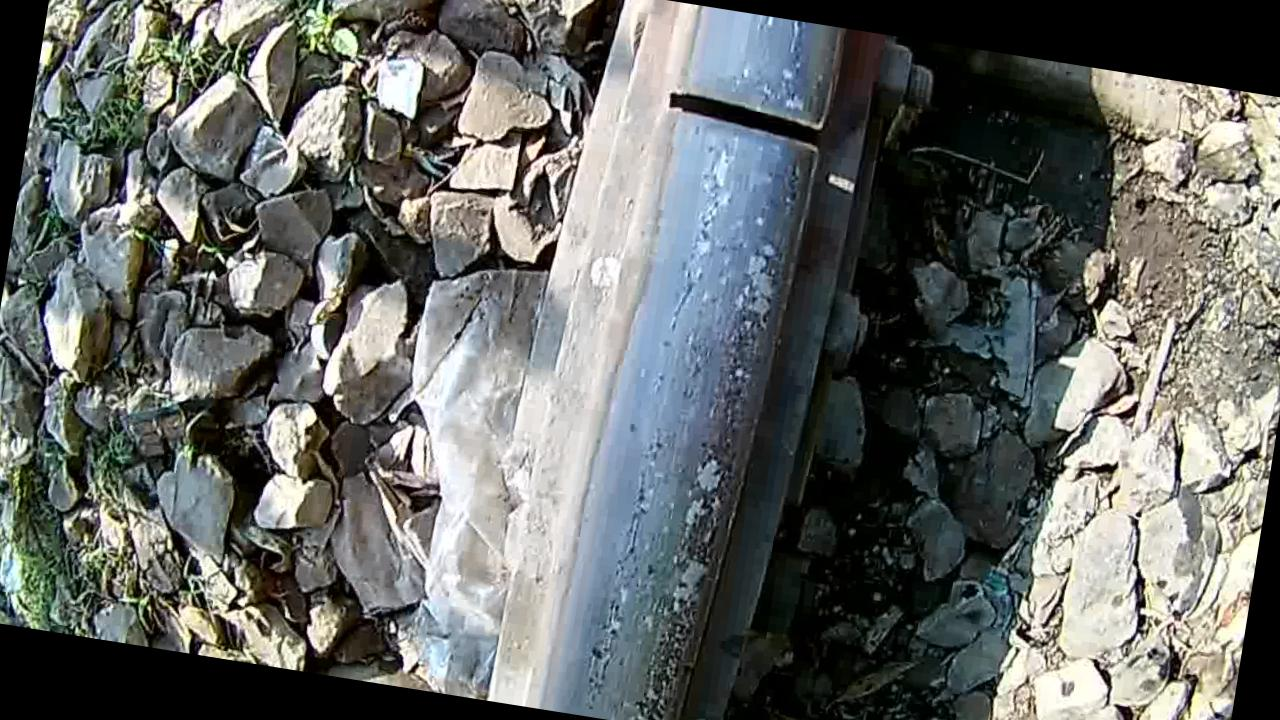clip_missing: (541, 153, 822, 720)
